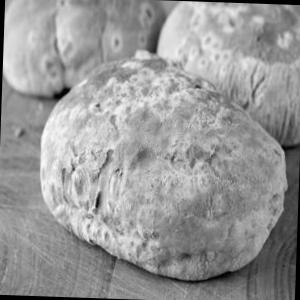bread: (24, 48, 294, 288)
